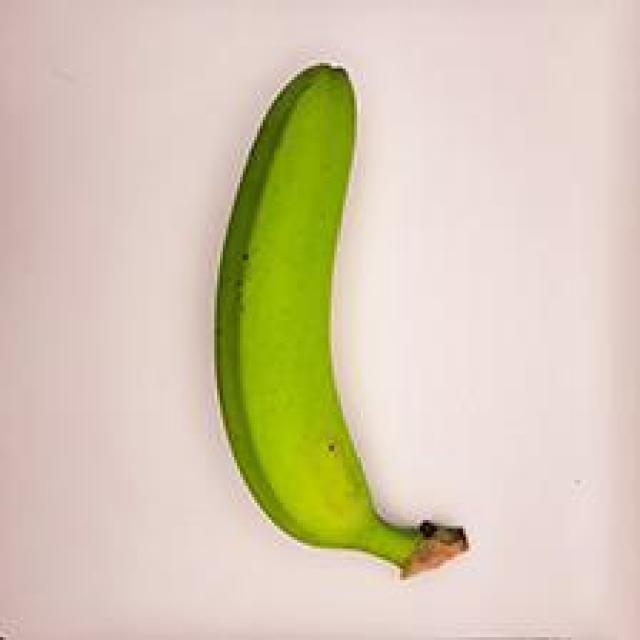raw: (174, 62, 501, 604)
